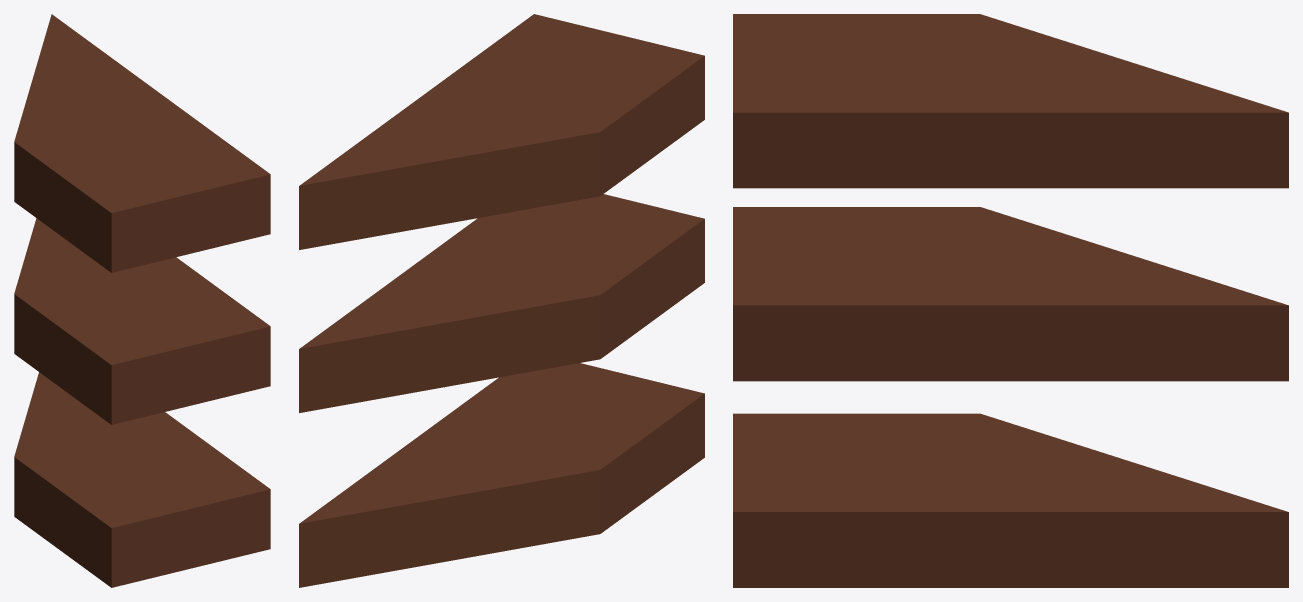
Rendered from Wall_self_end_cap_2.fbx.
3 renders of one model, left to right at view 1: azimuth 30°, elevation 25°; view 2: azimuth 150°, elevation 25°; view 3: azimuth 270°, elevation 25°, orthographic. The views are drawn at different scales.
Visible parts, largest first — view 1: polySurface21; view 2: polySurface21; view 3: polySurface21.
Boxes of the visible parts, left/top/right/bottom form: polySurface21: left=14, top=14, right=270, bottom=587; polySurface21: left=299, top=14, right=704, bottom=587; polySurface21: left=733, top=14, right=1288, bottom=587.
Size of the model in its own units: 8.88 by 19.98 by 21.17.
